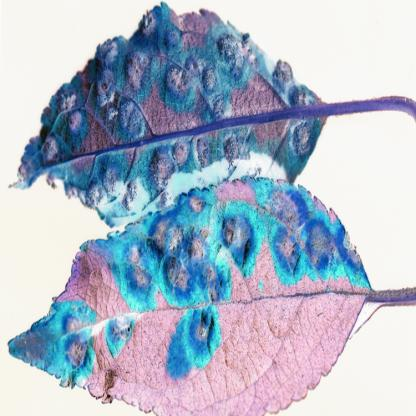Apple rust leaf: (9, 187, 400, 415), (15, 5, 343, 242)
